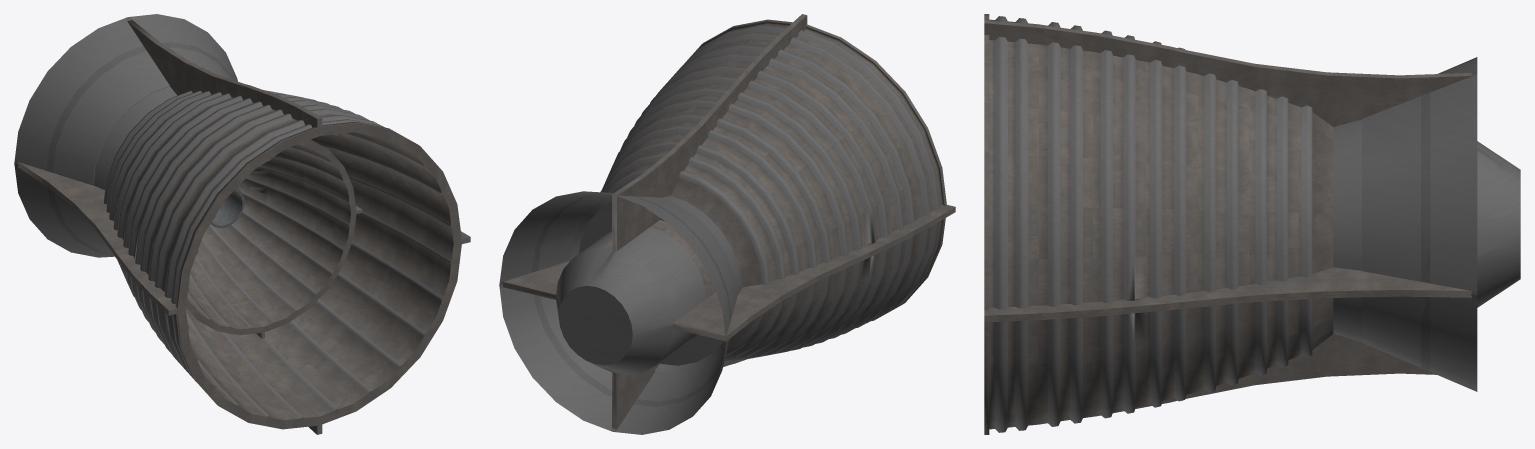
The model's file is thrusters.glb.
The picture shows the model from 3 angles, left to right: view 1: azimuth 30°, elevation 25°; view 2: azimuth 150°, elevation 25°; view 3: azimuth 270°, elevation 25°; orthographic projection. The views are drawn at different scales.
Visible parts, largest first — view 1: Nozzle_Main, Nozzle_Large, Nozzle_Small; view 2: Nozzle_Main, Nozzle_Large; view 3: Nozzle_Main, Nozzle_Large.
Part boxes in pixels (<box>): Nozzle_Main: <box>14,14,470,434</box>; Nozzle_Large: <box>93,86,362,338</box>; Nozzle_Small: <box>210,188,244,227</box>; Nozzle_Main: <box>499,14,955,434</box>; Nozzle_Large: <box>570,195,742,372</box>; Nozzle_Main: <box>984,14,1520,434</box>; Nozzle_Large: <box>1333,119,1361,341</box>.
Size of the model in its own units: 1.2 by 1.2 by 1.44.
Materials: 8 (7 with a texture image).
